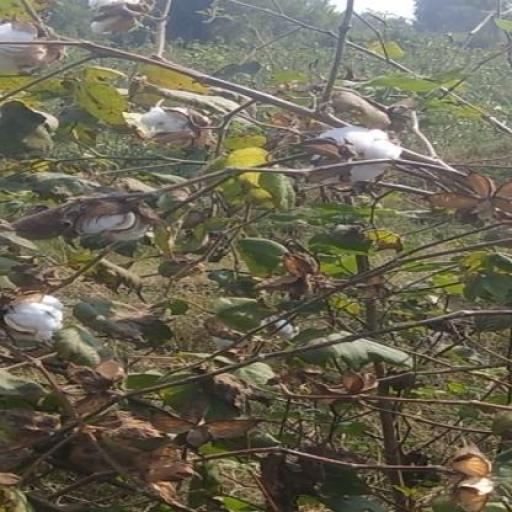cotton_ready: (302, 125, 428, 186), (1, 283, 94, 334)
